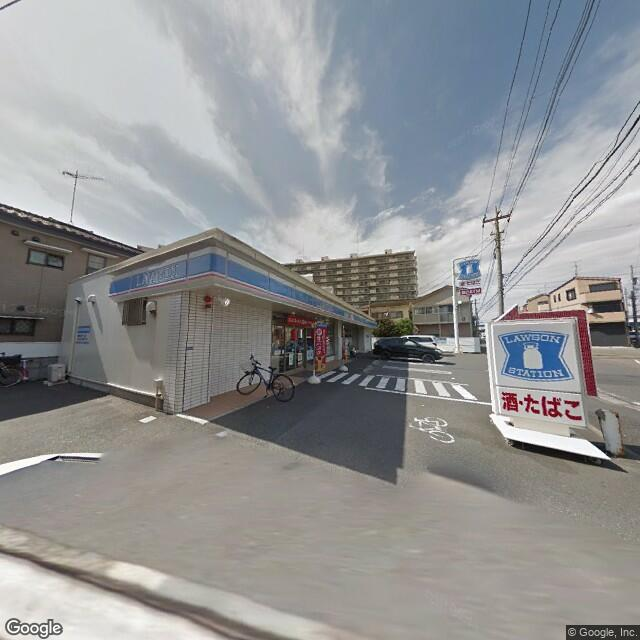lawson: (110, 246, 376, 334), (496, 322, 574, 388), (455, 251, 483, 283)
